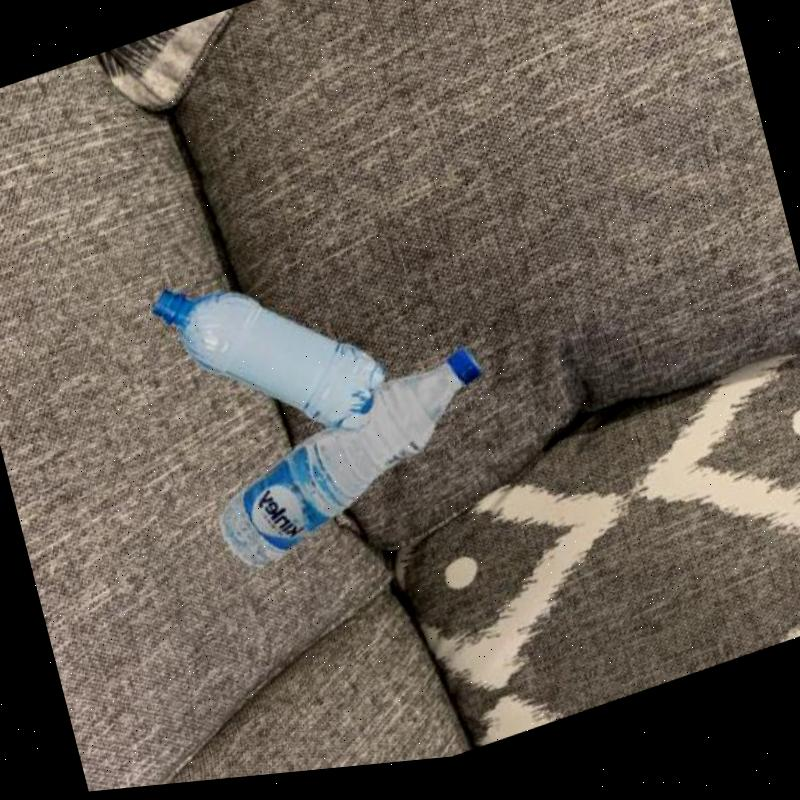botella: (194, 349, 510, 587), (140, 228, 393, 496)
